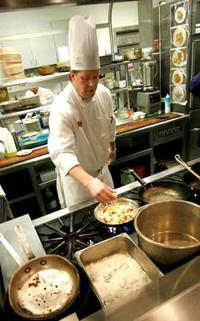person: (47, 16, 121, 208)
